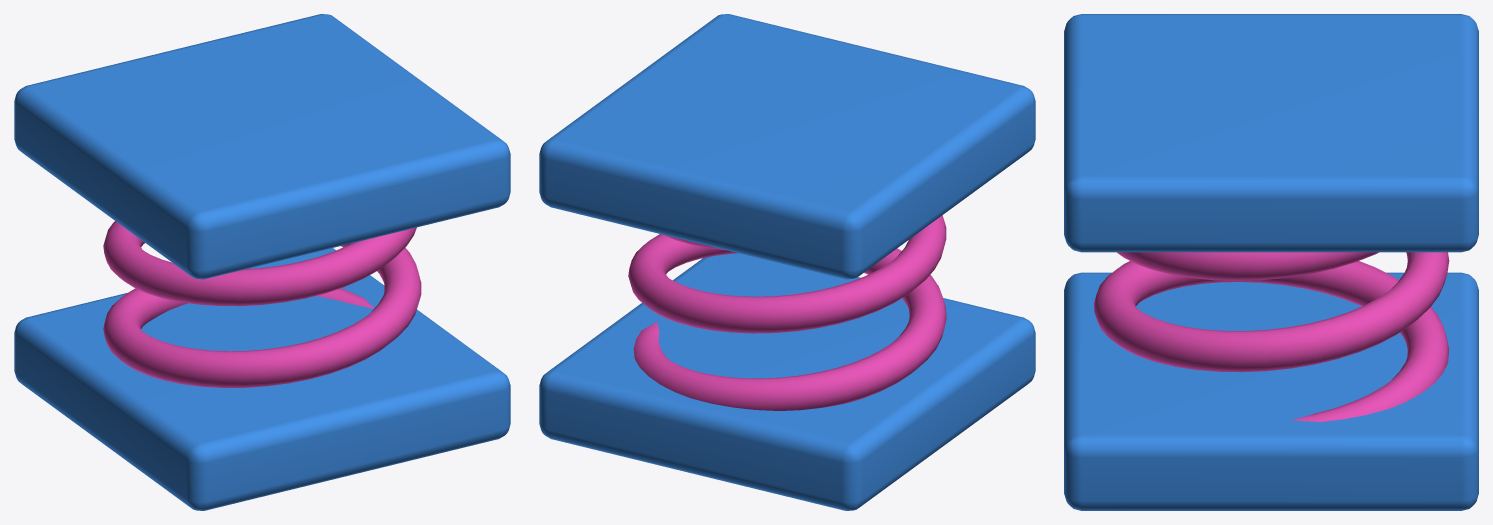
Rendered from obj_spring_001.fbx.
3 renders of one model, left to right at view 1: azimuth 30°, elevation 25°; view 2: azimuth 150°, elevation 25°; view 3: azimuth 270°, elevation 25°, orthographic. The views are drawn at different scales.
Parts seen in each view (by area): view 1: block_top, block_under, spring; view 2: block_top, block_under, spring; view 3: block_top, block_under, spring.
Boxes of the visible parts, x1,y1,x2,y2 form: block_top: [14, 14, 510, 279]; block_under: [14, 248, 510, 510]; spring: [103, 221, 421, 387]; block_top: [539, 14, 1035, 279]; block_under: [539, 253, 1035, 510]; spring: [628, 215, 946, 410]; block_top: [1064, 14, 1478, 252]; block_under: [1064, 272, 1478, 510]; spring: [1094, 252, 1449, 421].
Size of the model in its own units: 280 by 248 by 280.
